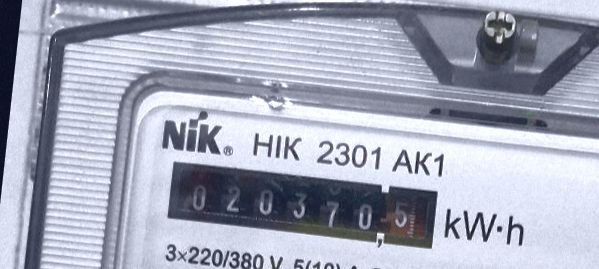0: (353, 200, 374, 232), (187, 180, 207, 211), (255, 186, 273, 215)
2: (221, 182, 242, 215)
3: (288, 188, 307, 220)
5: (389, 197, 410, 230)
7: (320, 198, 338, 229)
screen: (157, 153, 445, 258)
